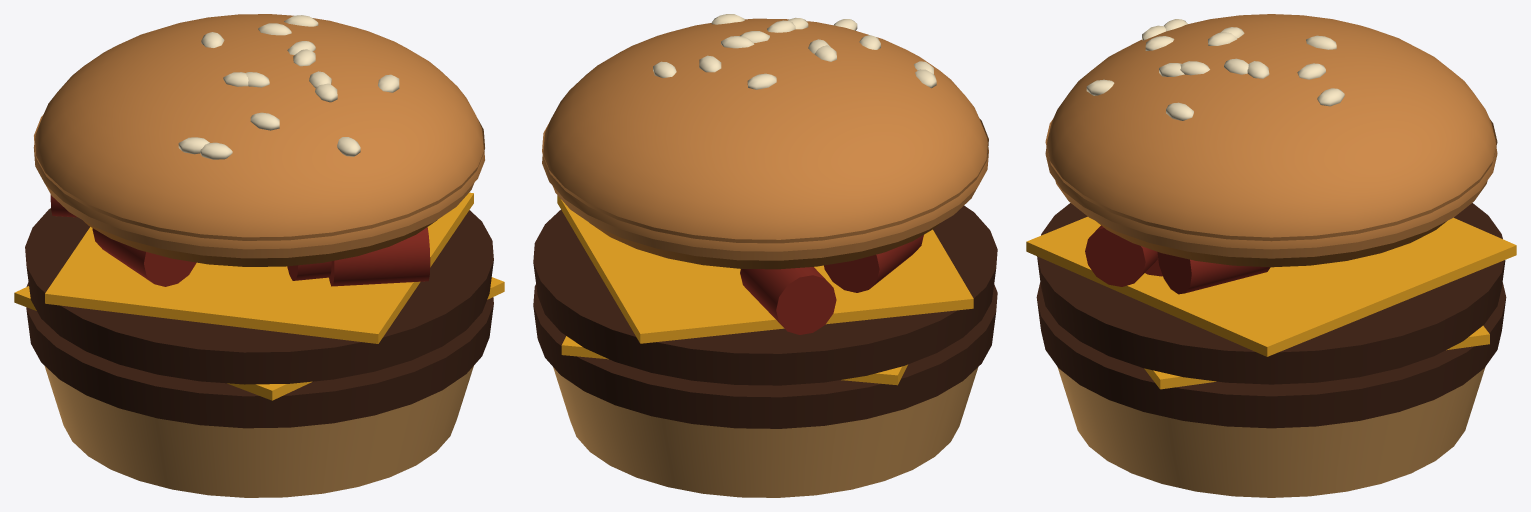
File: burger-doble-chorizo.glb
The picture shows the model from 3 angles, left to right: view 1: azimuth 30°, elevation 25°; view 2: azimuth 150°, elevation 25°; view 3: azimuth 270°, elevation 25°; orthographic projection.
Size of the model in its own units: 0.1595 by 0.132 by 0.1595.
